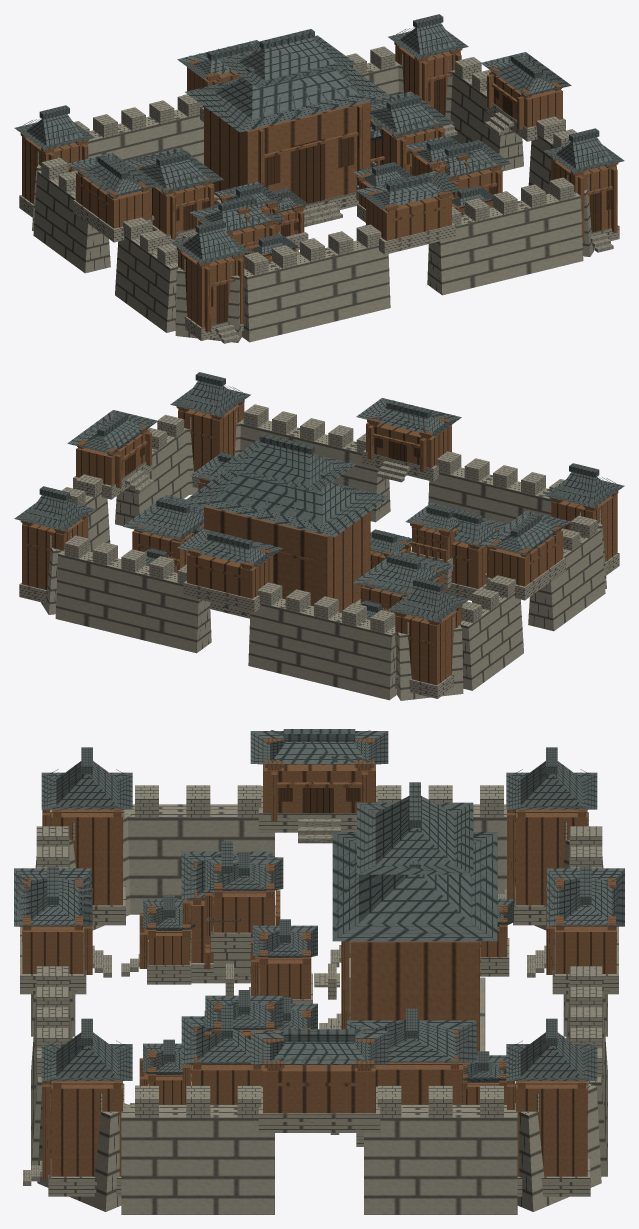
Rendered from city0-lod0.glb.
3 renders of one model, top to bottom at view 1: azimuth 30°, elevation 25°; view 2: azimuth 150°, elevation 25°; view 3: azimuth 270°, elevation 25°, orthographic. The views are drawn at different scales.
Size of the model in its own units: 2.31 by 0.821 by 1.79.
1 material, 1 textured.
